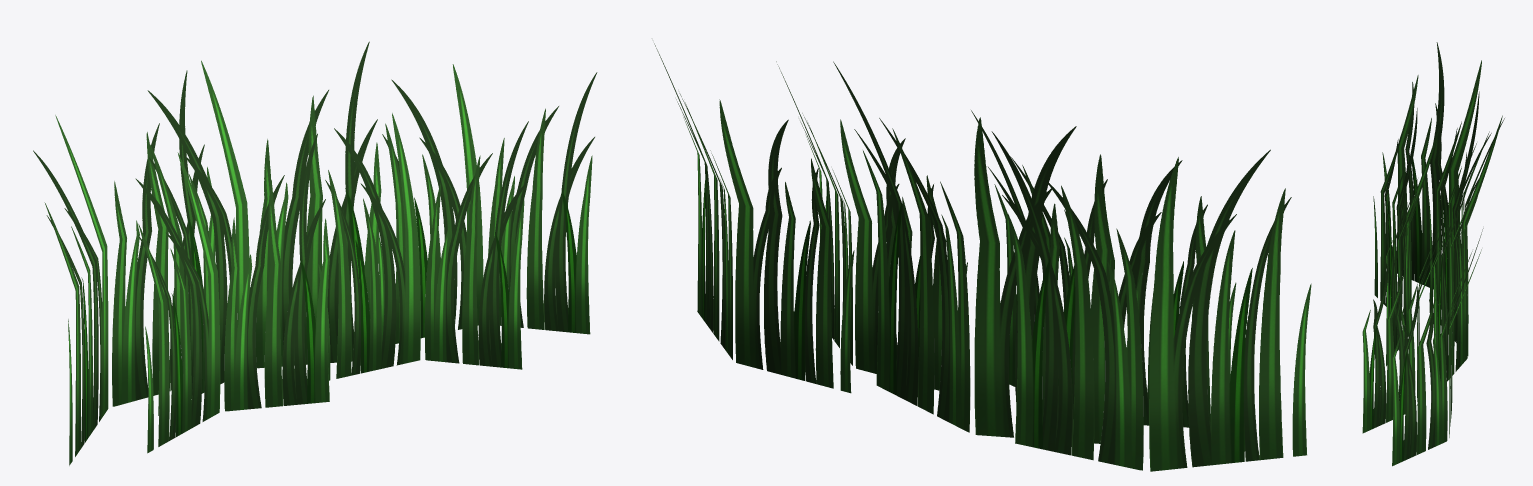
Rendered from Water_Grass.FBX.
3 renders of one model, left to right at view 1: azimuth 30°, elevation 25°; view 2: azimuth 150°, elevation 25°; view 3: azimuth 270°, elevation 25°, orthographic. The views are drawn at different scales.
Visible parts, largest first — view 1: Water_Grass; view 2: Water_Grass; view 3: Water_Grass.
Boxes of the visible parts, <box> form: Water_Grass: <box>33,41,597,465</box>; Water_Grass: <box>654,43,1311,471</box>; Water_Grass: <box>1362,42,1504,466</box>.
Size of the model in its own units: 87.56 by 45.44 by 27.94.
